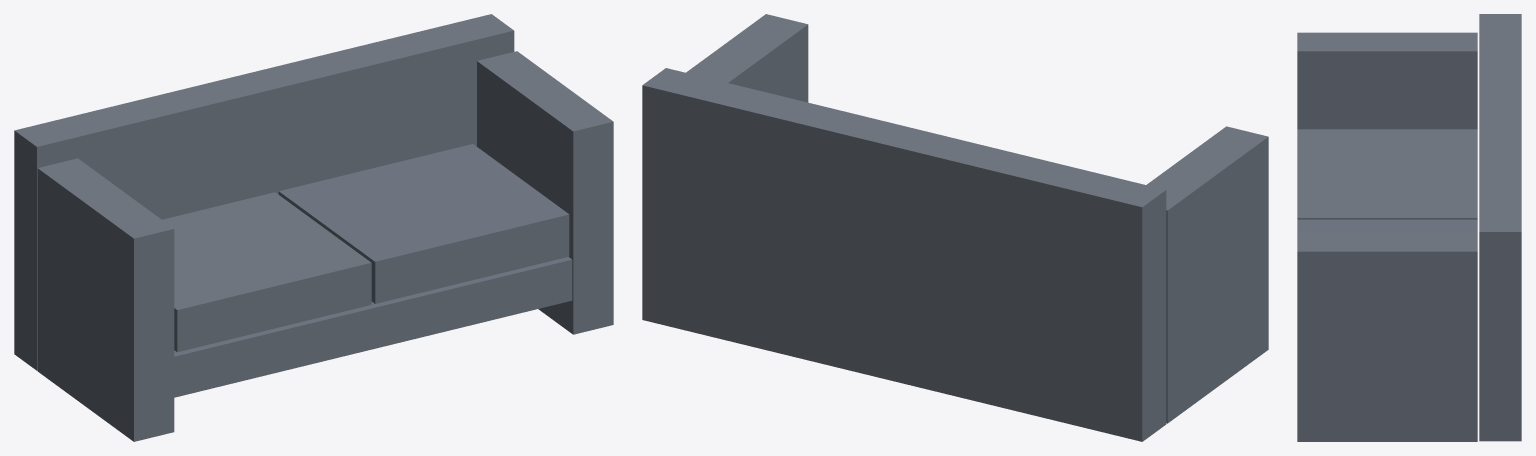
The model's file is Sofa.fbx.
The picture shows the model from 3 angles, left to right: view 1: azimuth 30°, elevation 25°; view 2: azimuth 150°, elevation 25°; view 3: azimuth 270°, elevation 25°; orthographic projection. The views are drawn at different scales.
Visible parts, largest first — view 1: Cube.005, Cube.003, Cube.001, Cube, Cube.004, Cube.002; view 2: Cube.005, Cube.003, Cube.004; view 3: Cube.004, Cube.005, Cube.003, Cube, Cube.001.
Boxes of the visible parts, box(x1,y1,x2,y2) form: Cube.005: box(14, 14, 514, 370); Cube.003: box(37, 158, 174, 441); Cube.001: box(278, 144, 569, 303); Cube: box(162, 192, 371, 352); Cube.004: box(477, 51, 613, 334); Cube.002: box(173, 257, 572, 397); Cube.005: box(642, 68, 1166, 441); Cube.003: box(1146, 126, 1268, 423); Cube.004: box(686, 14, 808, 102); Cube.004: box(1297, 233, 1477, 441); Cube.005: box(1479, 14, 1521, 441); Cube.003: box(1297, 32, 1477, 129); Cube: box(1297, 129, 1477, 219); Cube.001: box(1297, 219, 1477, 233).
Size of the model in its own units: 575 by 256 by 249.
